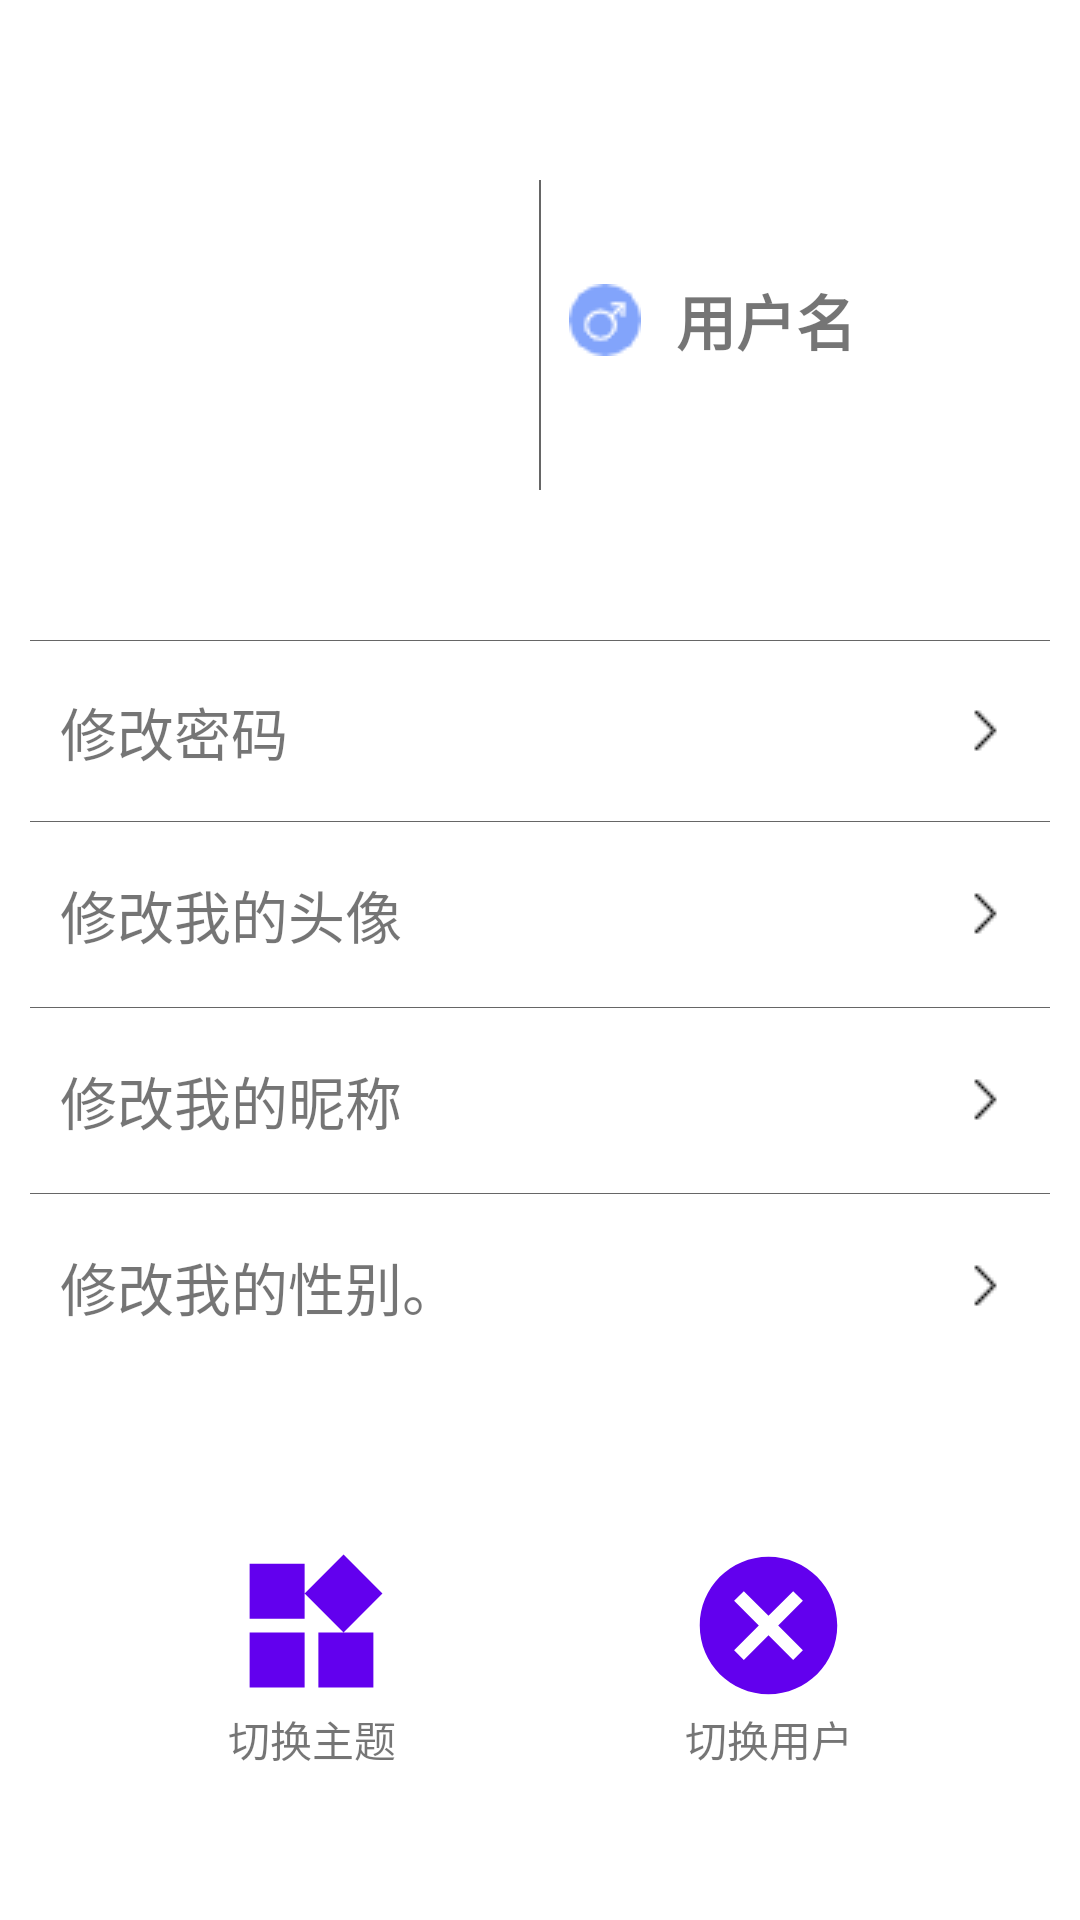

Icon bounding boxes for this 1080*1920 phone screenshot, format (x1,y1,x2,y2):
cancel: (699,1556,838,1695)
sex boy: (569,284,641,356)
widgets: (249,1554,383,1688)
